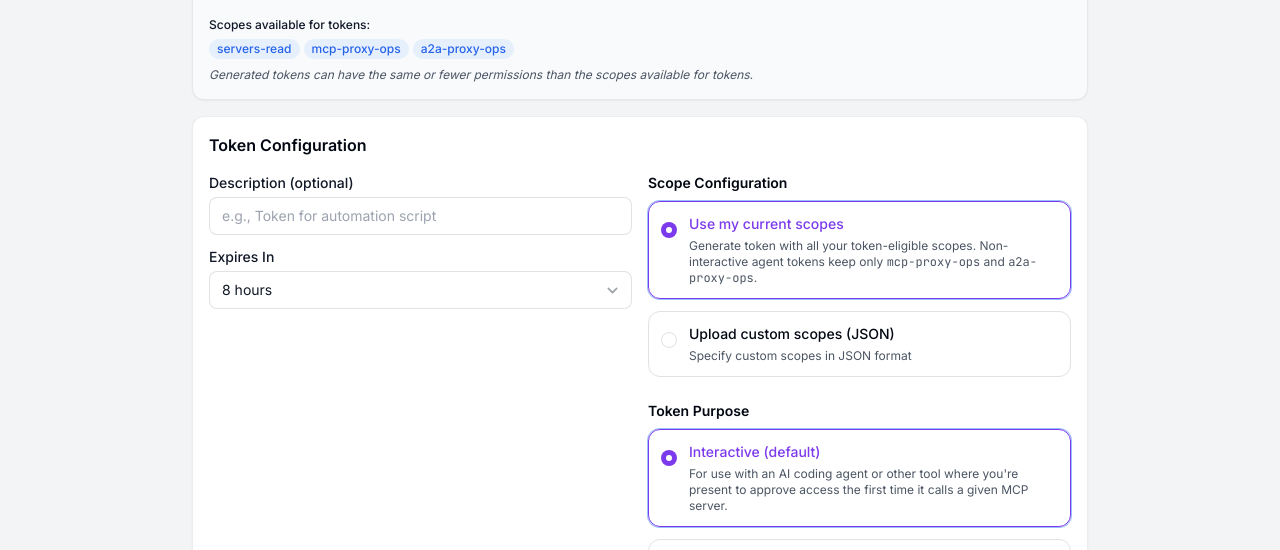
Test: TokenGeneration › non-empty custom scopes are sent as requestedScopes
Click the radio button showing "custom" at (669, 340), box [661, 332, 677, 348]
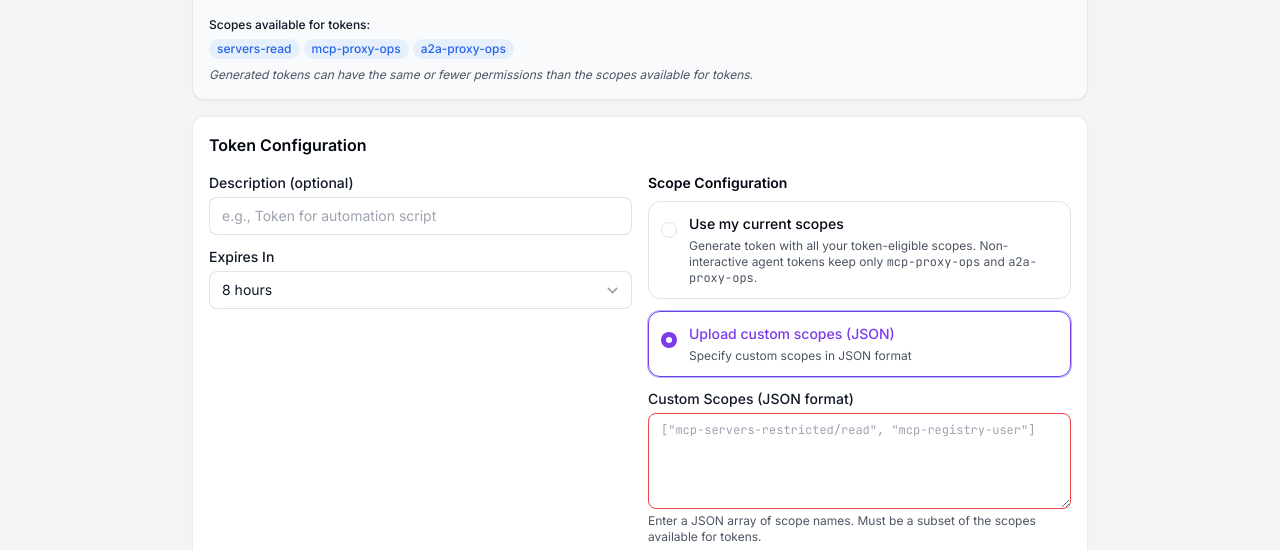
Type "[\"mcp-proxy-ops\"]" into the text box labelled "Custom Scopes (JSON format)" at (860, 461), box [648, 413, 1071, 509]
(page scrolled)
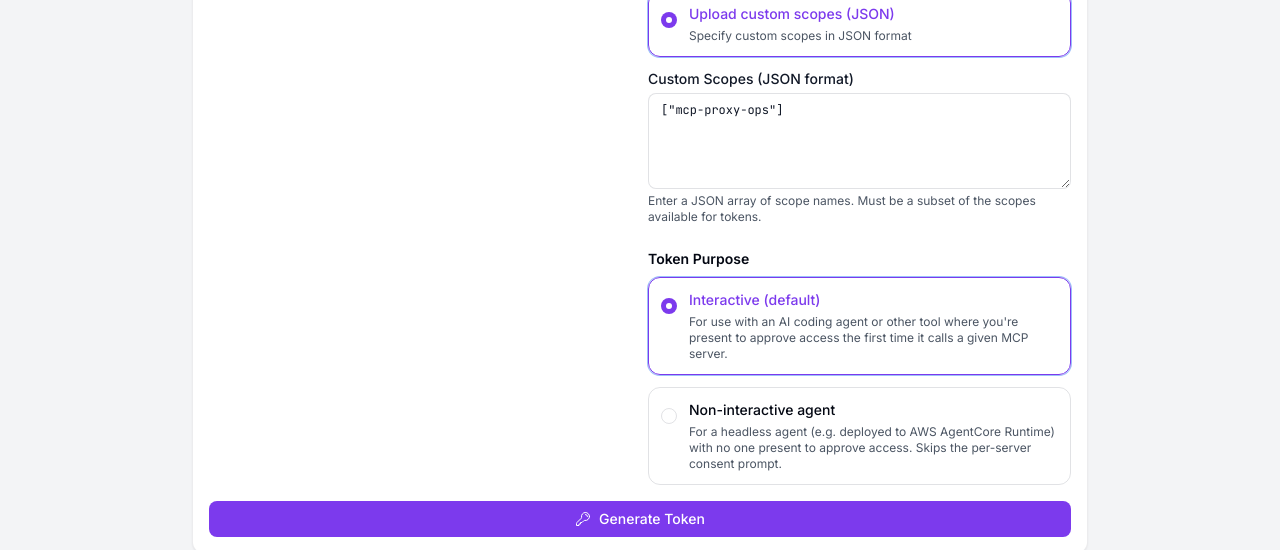
Expected: the button "Generate Token" is enabled
Click the button "Generate Token" at (640, 519), box [209, 501, 1071, 537]
(page scrolled)
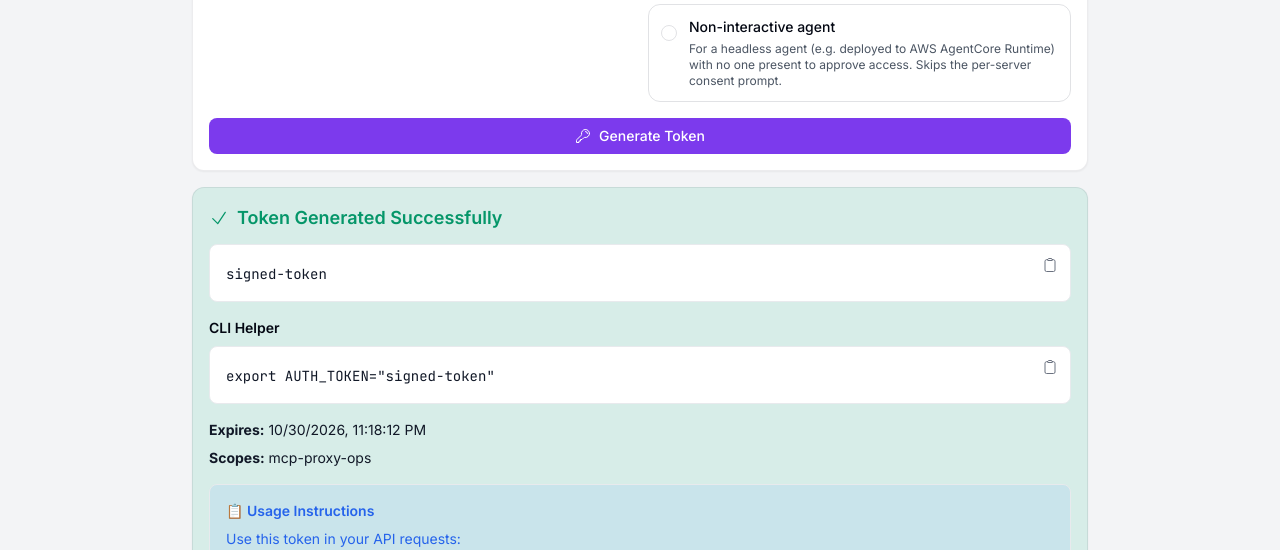
Expected: the heading "Token Generated Successfully" is shown, [237, 204, 502, 232]
